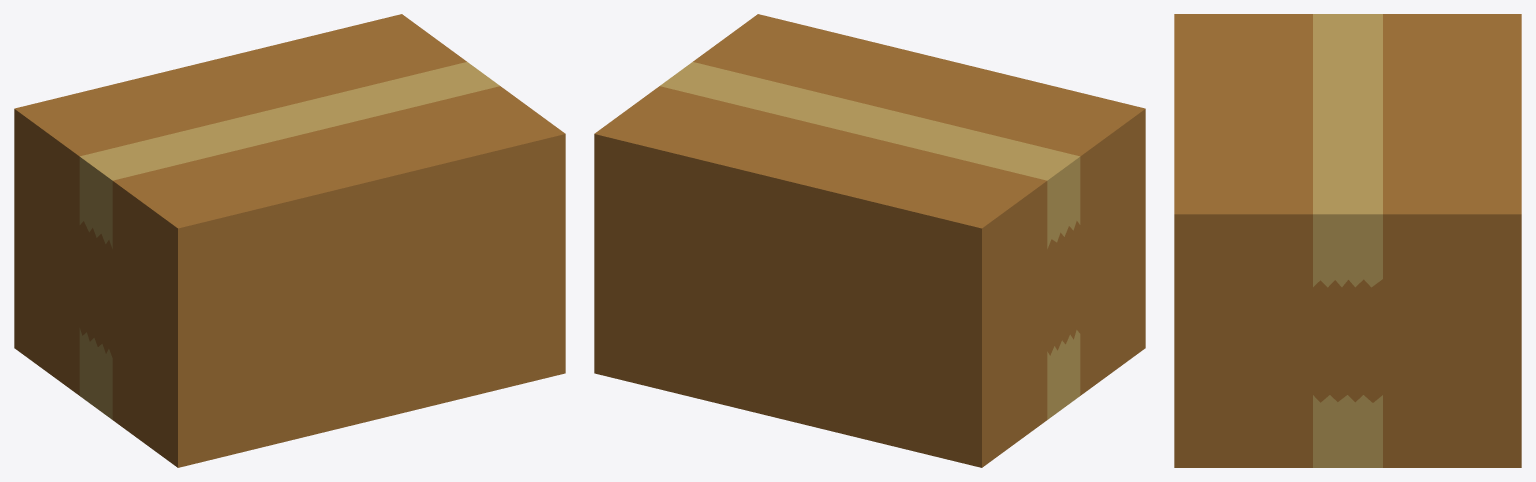
3 views of the same model, side by side, from view 1: azimuth 30°, elevation 25°; view 2: azimuth 150°, elevation 25°; view 3: azimuth 270°, elevation 25° (orthographic). The views are drawn at different scales.
Parts seen in each view (by area): view 1: Box; view 2: Box; view 3: Box.
Boxes of the visible parts, x1,y1,x2,y2 form: Box: [14, 14, 565, 467]; Box: [594, 14, 1145, 467]; Box: [1174, 14, 1521, 467].
Bounding box in the file's own units: 83.39 × 49.21 × 61.03.
1 material, 1 textured.
